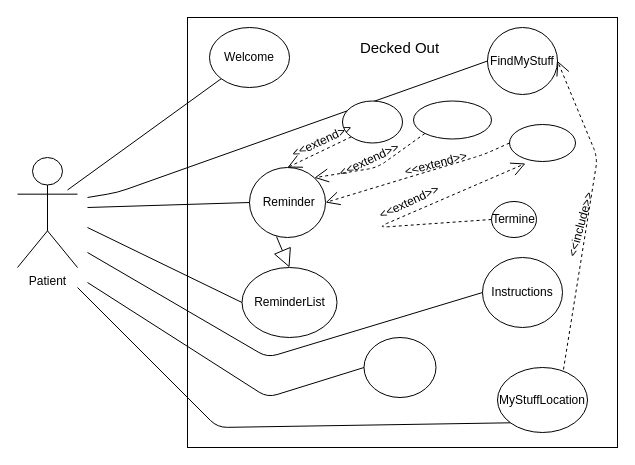
Image size: 635x465. Some labels were removed from this diagram. The centre of each missing label's shape, as x and y in pixels:
"Arzttermine" goes at point 542,143.
"End" goes at point 399,367.
"Essen" goes at point 372,121.
"Medikamente" goes at point 452,119.
